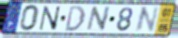0: (18, 5, 43, 33)
8: (116, 7, 134, 33)
D: (64, 5, 86, 33)
N: (132, 6, 160, 35), (85, 6, 112, 33), (38, 5, 61, 32)
